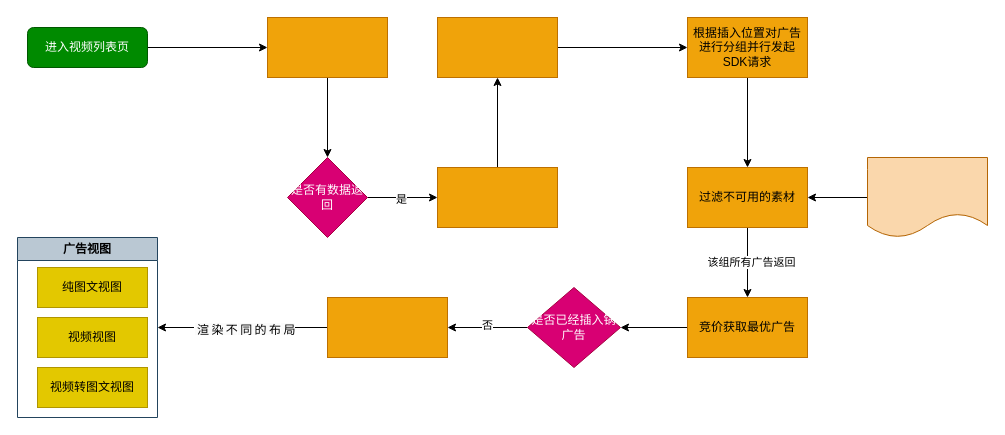
Image size: 1005x435. Some labels were removed from this diagram. Here are the shapes that lost their labels. From the top down, the box of each, then its label:
(266, 16, 388, 78): feed视频列表请求
(436, 16, 558, 78): 墨迹服务器返回广告投放
(436, 166, 558, 228): 广告请求
(866, 156, 988, 238): 双feed 广告位增加判断URL是否为空的判断
(326, 296, 448, 358): 在主版数据中插入广告
